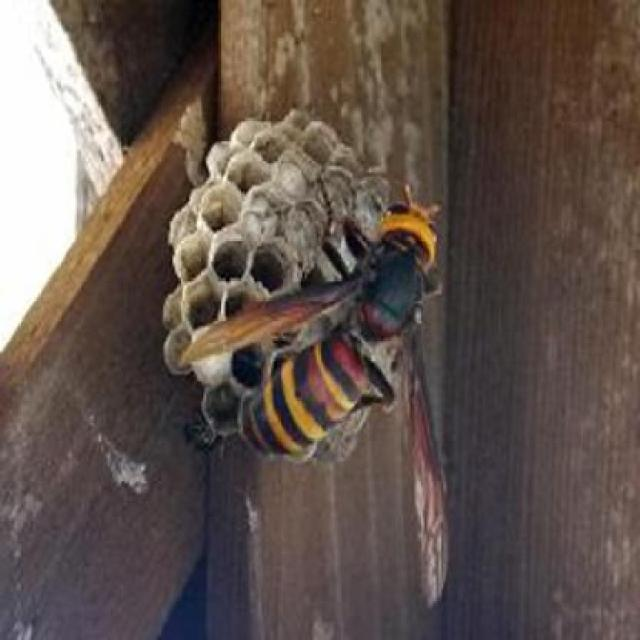Wasp: (203, 159, 449, 469)
